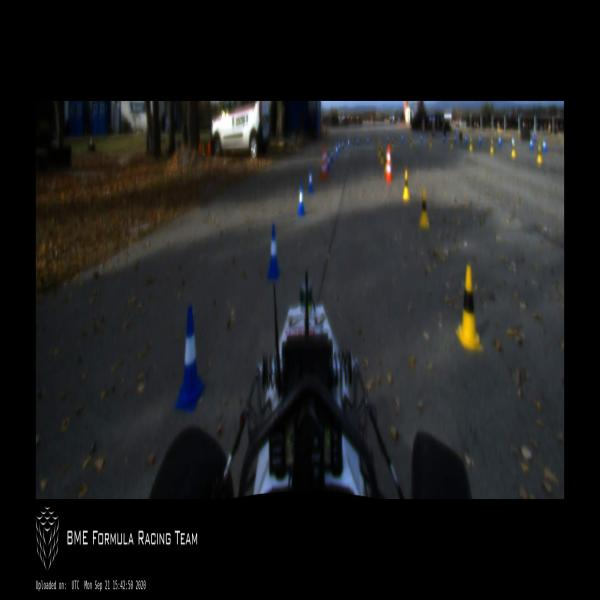blue_cone: (174, 307, 206, 411), (266, 222, 280, 280), (296, 183, 305, 214), (307, 168, 313, 190), (478, 134, 482, 148), (327, 153, 330, 170), (335, 142, 338, 158), (331, 147, 334, 162), (542, 138, 545, 151), (347, 137, 350, 149), (366, 135, 369, 147), (401, 133, 404, 145), (338, 140, 341, 151), (341, 139, 344, 150), (357, 135, 360, 146), (442, 132, 445, 143), (498, 135, 501, 146), (530, 137, 532, 150), (420, 132, 422, 144), (387, 135, 389, 144)
large_orange_cone: (385, 144, 392, 183), (321, 147, 326, 180)
yellow_cone: (456, 265, 482, 351), (418, 186, 430, 229), (402, 170, 410, 201), (536, 142, 542, 162), (511, 140, 516, 160), (380, 147, 384, 165), (490, 137, 494, 154), (377, 140, 380, 157), (391, 138, 395, 150), (429, 134, 432, 149), (450, 135, 453, 148), (409, 136, 412, 147), (470, 136, 472, 152)
